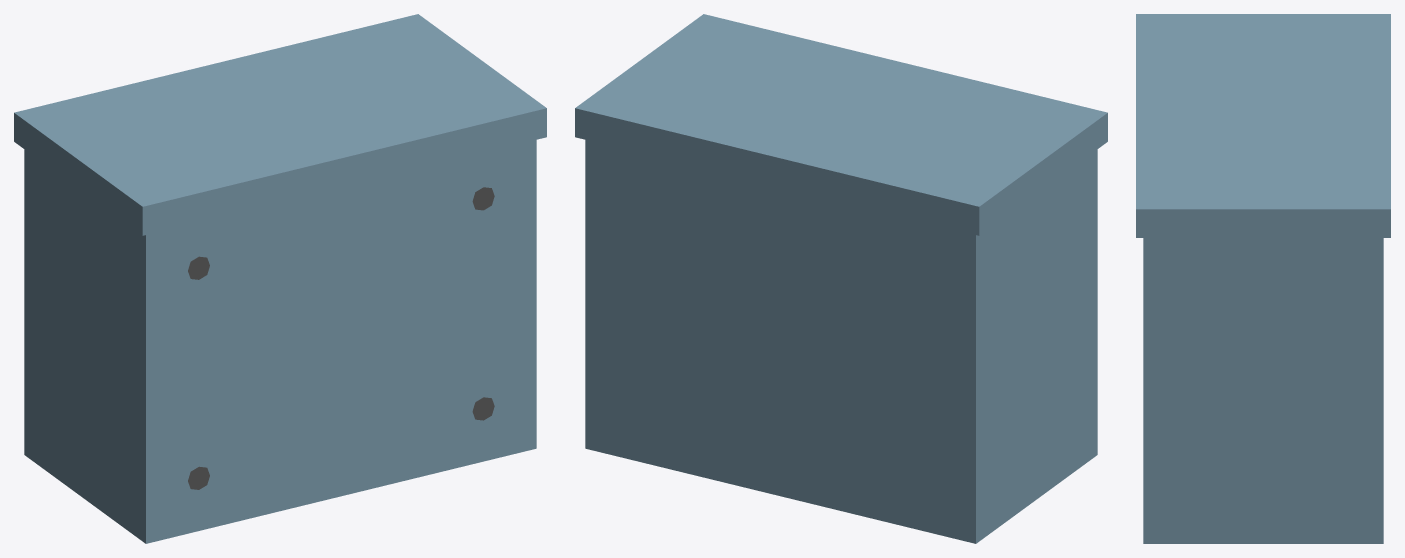
File: storage_box_7.fbx
3 renders of one model, left to right at view 1: azimuth 30°, elevation 25°; view 2: azimuth 150°, elevation 25°; view 3: azimuth 270°, elevation 25°, orthographic.
Parts seen in each view (by area): view 1: storage_box_7; view 2: storage_box_7; view 3: storage_box_7.
Part boxes in pixels (box(x1,y1,x2,y2)): storage_box_7: box(14, 14, 546, 543); storage_box_7: box(575, 14, 1107, 543); storage_box_7: box(1136, 14, 1390, 543).
Bounding box in the file's own units: 31.15 × 17.17 × 25.14.
